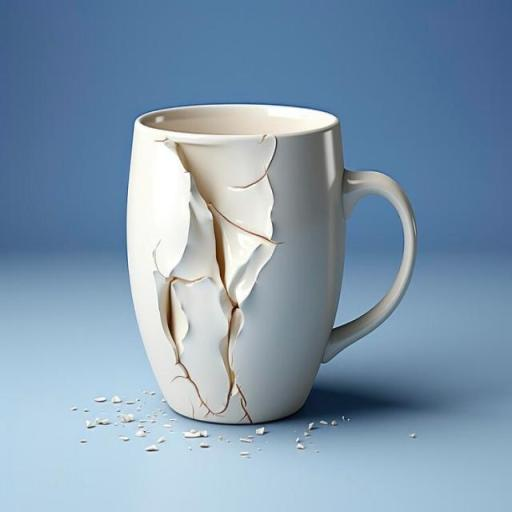glass: (82, 100, 418, 436)
